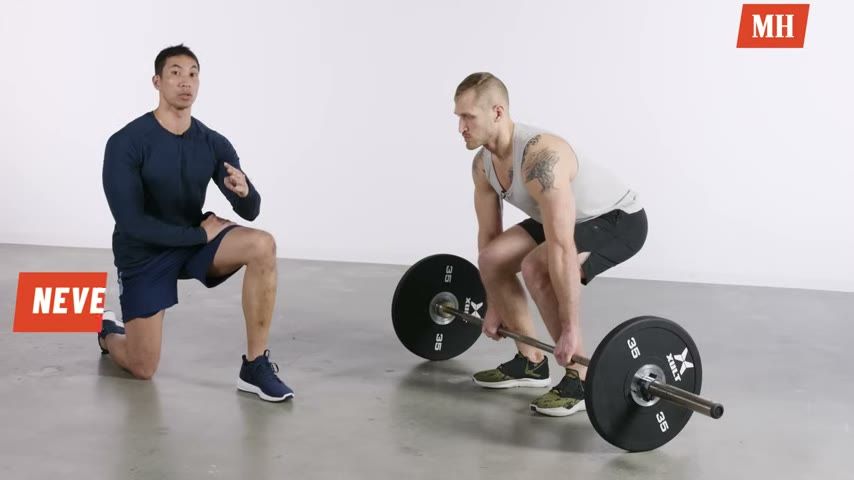barbell_plate_side: (385, 252, 470, 449), (637, 308, 725, 460)
